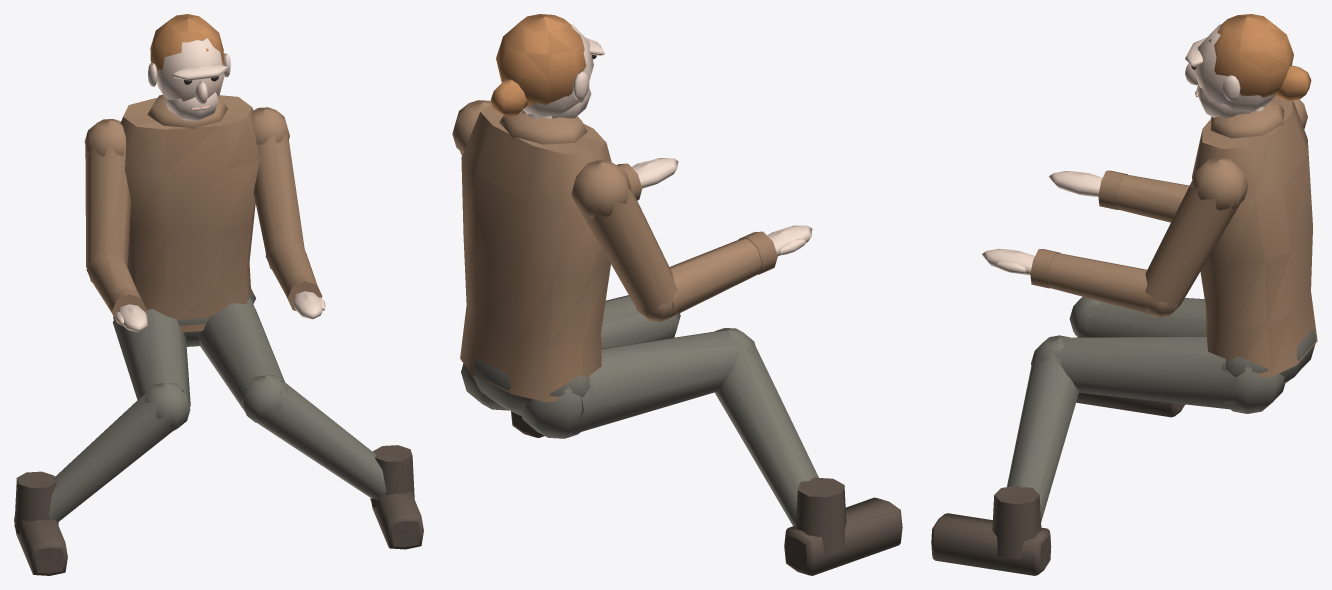
Rendered from crowd_seated_a.glb.
3 views of the same model, side by side, from view 1: azimuth 30°, elevation 25°; view 2: azimuth 150°, elevation 25°; view 3: azimuth 270°, elevation 25° (orthographic). The views are drawn at different scales.
Visible parts, largest first — view 1: body; view 2: body; view 3: body.
Part boxes in pixels (x1=…): body: x1=14, y1=14, x2=423, y2=575; body: x1=452, y1=14, x2=902, y2=575; body: x1=931, y1=14, x2=1317, y2=575.
Size of the model in its own units: 0.9617 by 1.17 by 0.8241.
